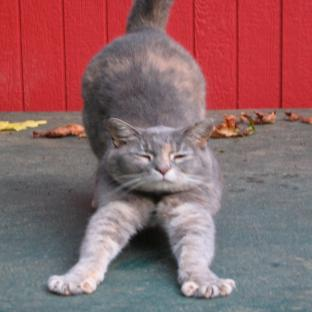Animal: (48, 0, 235, 298)
